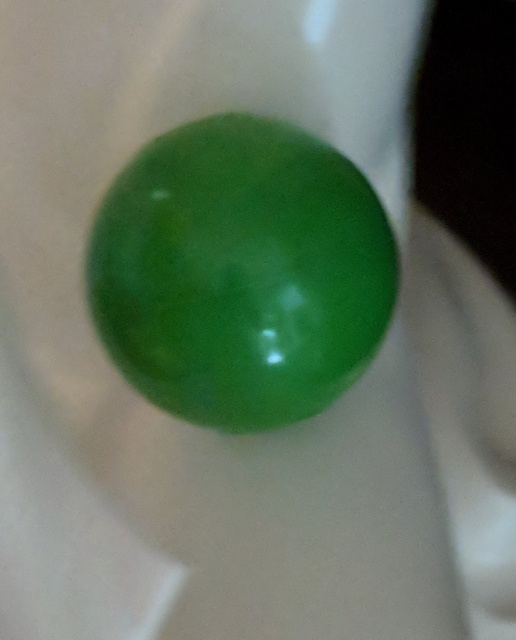ball: (79, 108, 403, 438)
